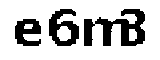3: (128, 6, 154, 47)
6: (46, 6, 80, 50)
e: (10, 14, 43, 51)
m: (82, 16, 129, 51)
